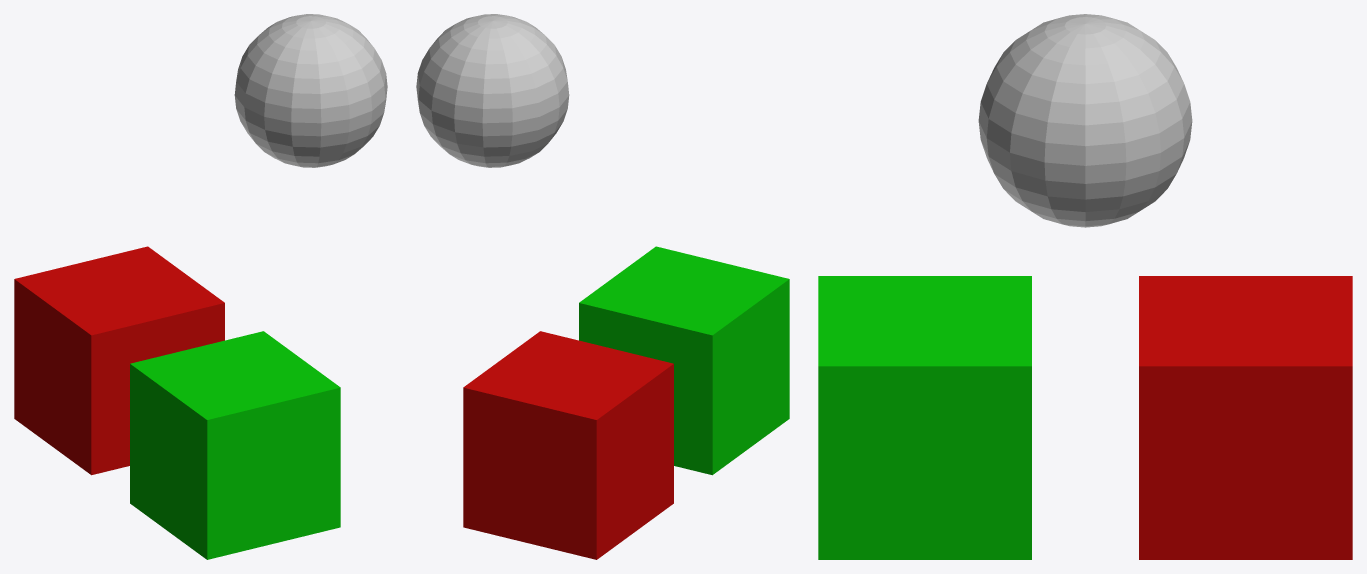
File: cubes_and_sun.obj
3 renders of one model, left to right at view 1: azimuth 30°, elevation 25°; view 2: azimuth 150°, elevation 25°; view 3: azimuth 270°, elevation 25°, orthographic. The views are drawn at different scales.
Visible parts, largest first — view 1: Cube.002, Cube.001, Sphere; view 2: Cube.001, Cube.002, Sphere; view 3: Cube.001, Cube.002, Sphere.
Boxes of the visible parts, x1=… form: Cube.002: x1=130, y1=331, x2=340, y2=559; Cube.001: x1=14, y1=246, x2=224, y2=475; Sphere: x1=234, y1=14, x2=387, y2=167; Cube.001: x1=463, y1=331, x2=673, y2=559; Cube.002: x1=579, y1=246, x2=789, y2=475; Sphere: x1=416, y1=14, x2=569, y2=167; Cube.001: x1=1139, y1=276, x2=1352, y2=559; Cube.002: x1=818, y1=276, x2=1031, y2=559; Sphere: x1=978, y1=14, x2=1192, y2=227.
Size of the model in its own units: 4 by 6 by 5.
